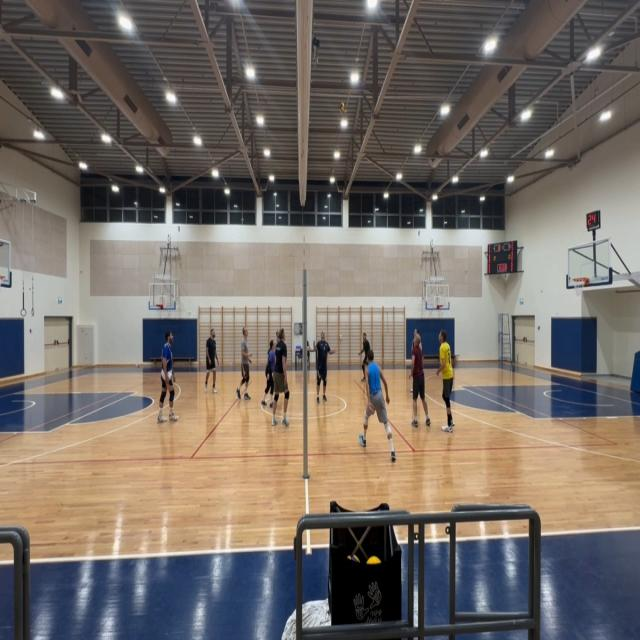volleyball: (340, 102, 344, 112)
